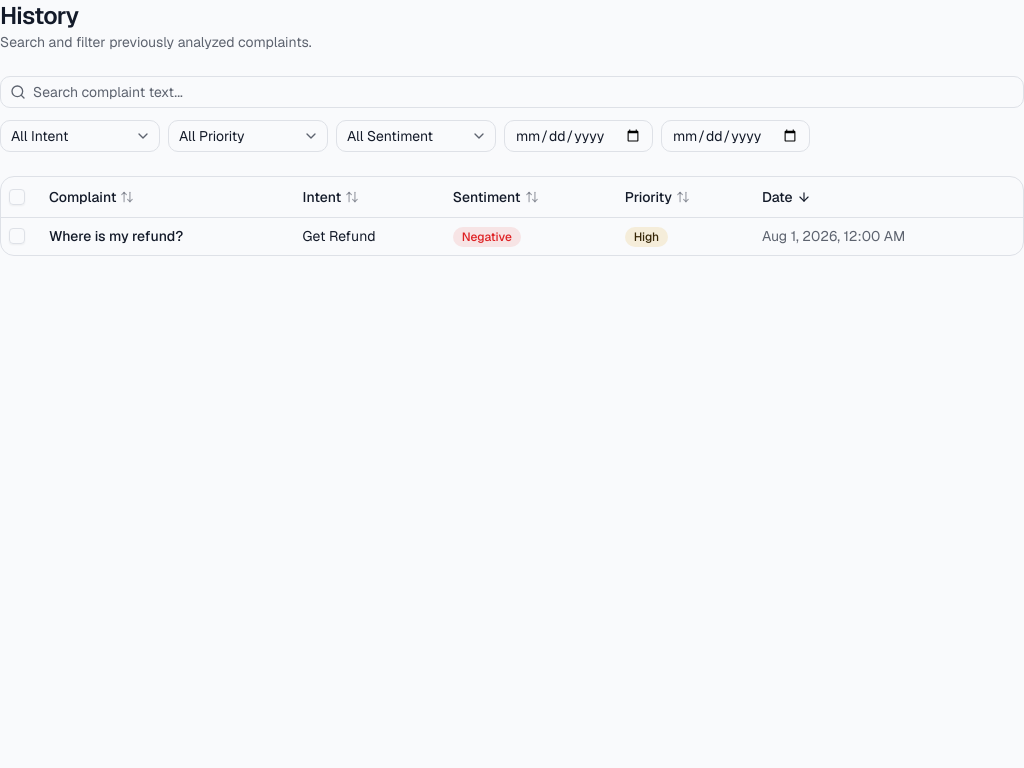
Test case: HistoryView delete flow › selects a row, confirms delete, and refreshes the list on success
Expected: the text "Where is my refund?" is shown, [41,217,294,254]
Click the checkbox named "select complaint" at (17, 236), box [9,228,25,244]
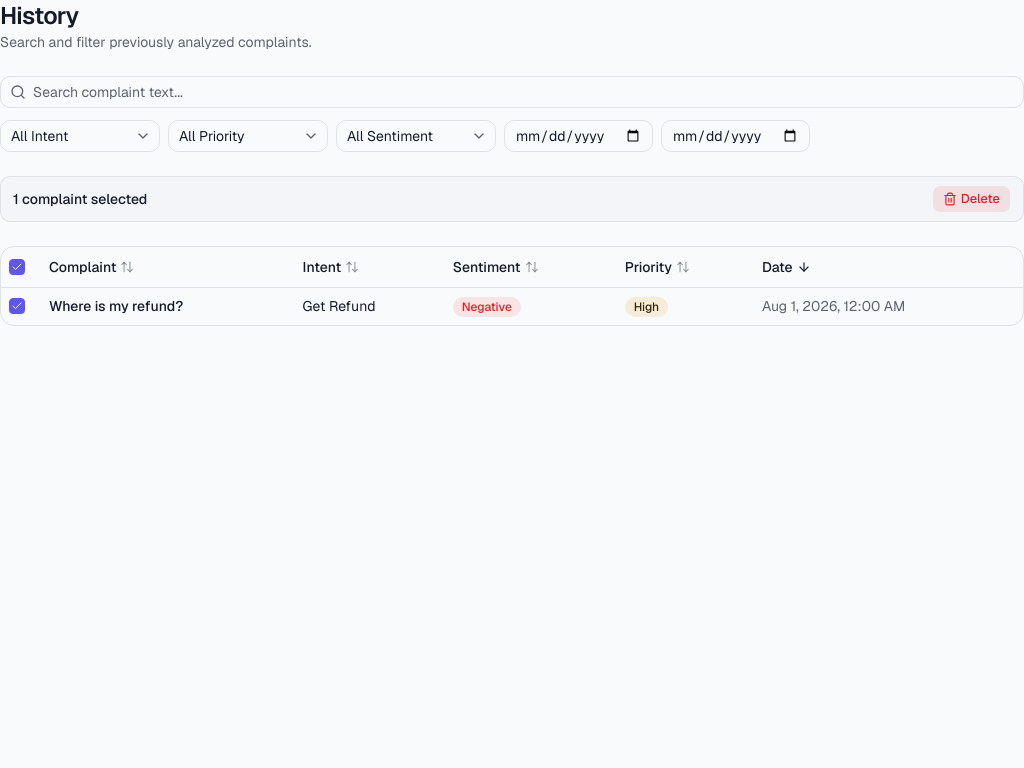
Expected: the text "1 complaint selected" is shown, [13,189,147,209]
Click the button "Delete" at (971, 199), box [932,185,1011,213]
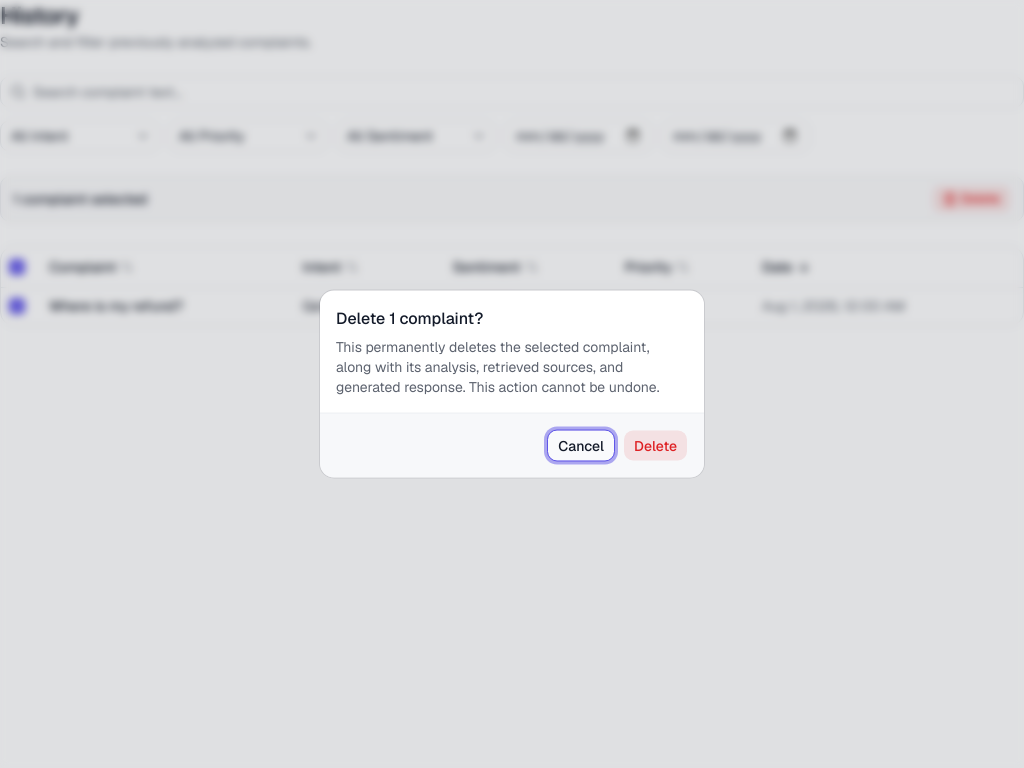
Click the button "Delete" at (655, 446), box [623,430,688,462]
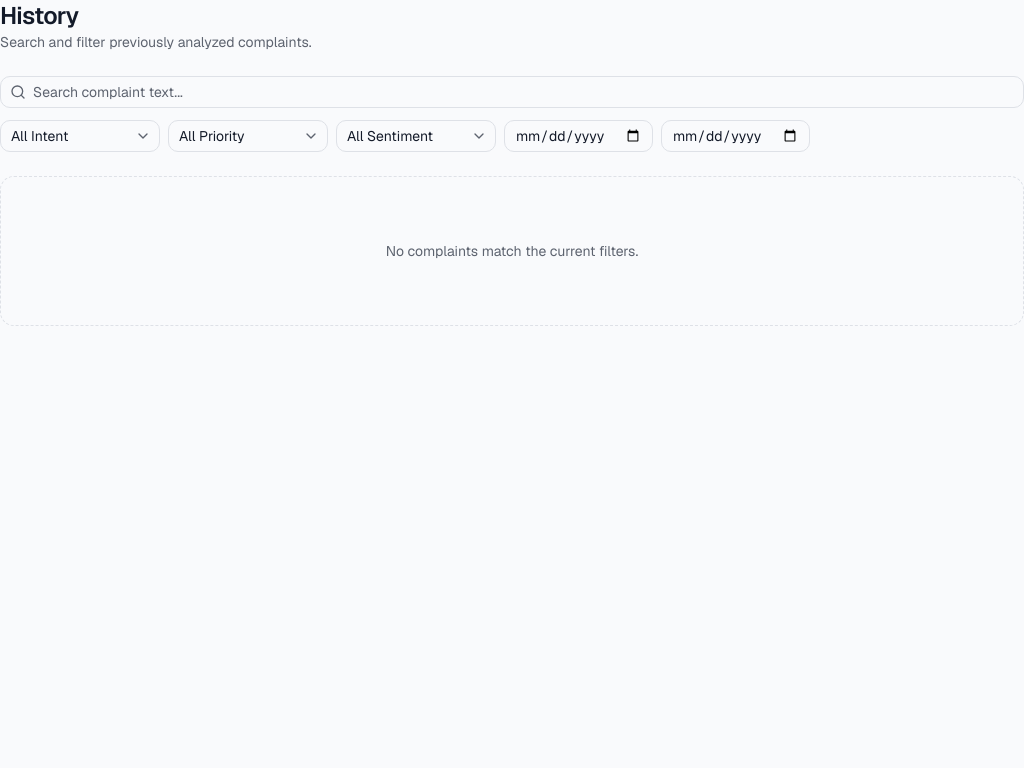
Expected: the text "Where is my refund?" is gone
Expected: the text "selected" is gone
